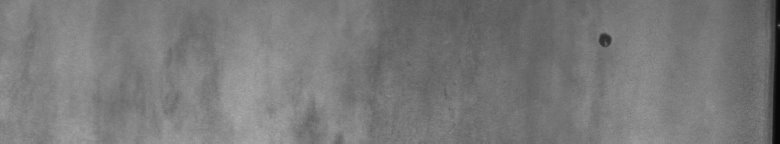fi: (593, 26, 617, 52)
